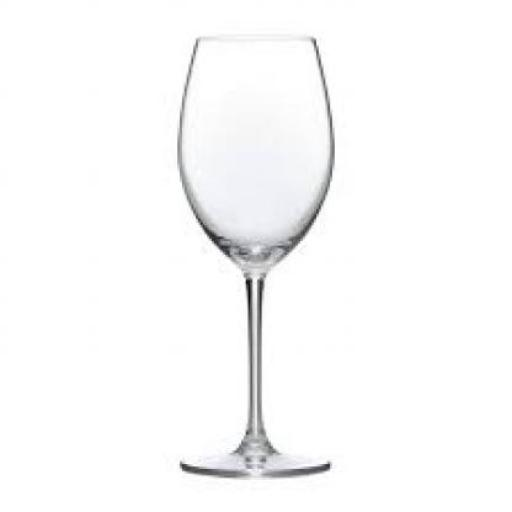glass: (173, 35, 330, 475)
